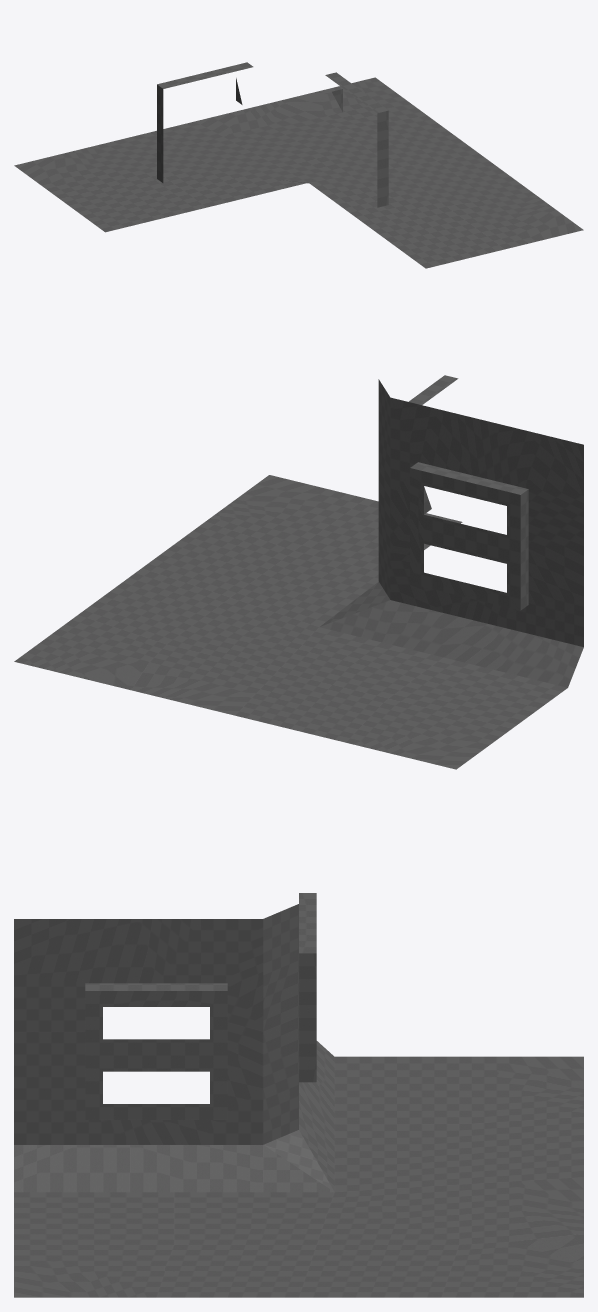
3 views of the same model, one above another, from view 1: azimuth 30°, elevation 25°; view 2: azimuth 150°, elevation 25°; view 3: azimuth 270°, elevation 25° (orthographic). The views are drawn at different scales.
Visible parts, largest first — view 1: 2; view 2: 2; view 3: 2.
Boxes of the visible parts, bbox=[...] form: 2: bbox=[14, 62, 583, 268]; 2: bbox=[14, 375, 583, 769]; 2: bbox=[14, 893, 583, 1297].
Size of the model in its own units: 4 by 2 by 4.
Materials: 2 (2 with a texture image).
